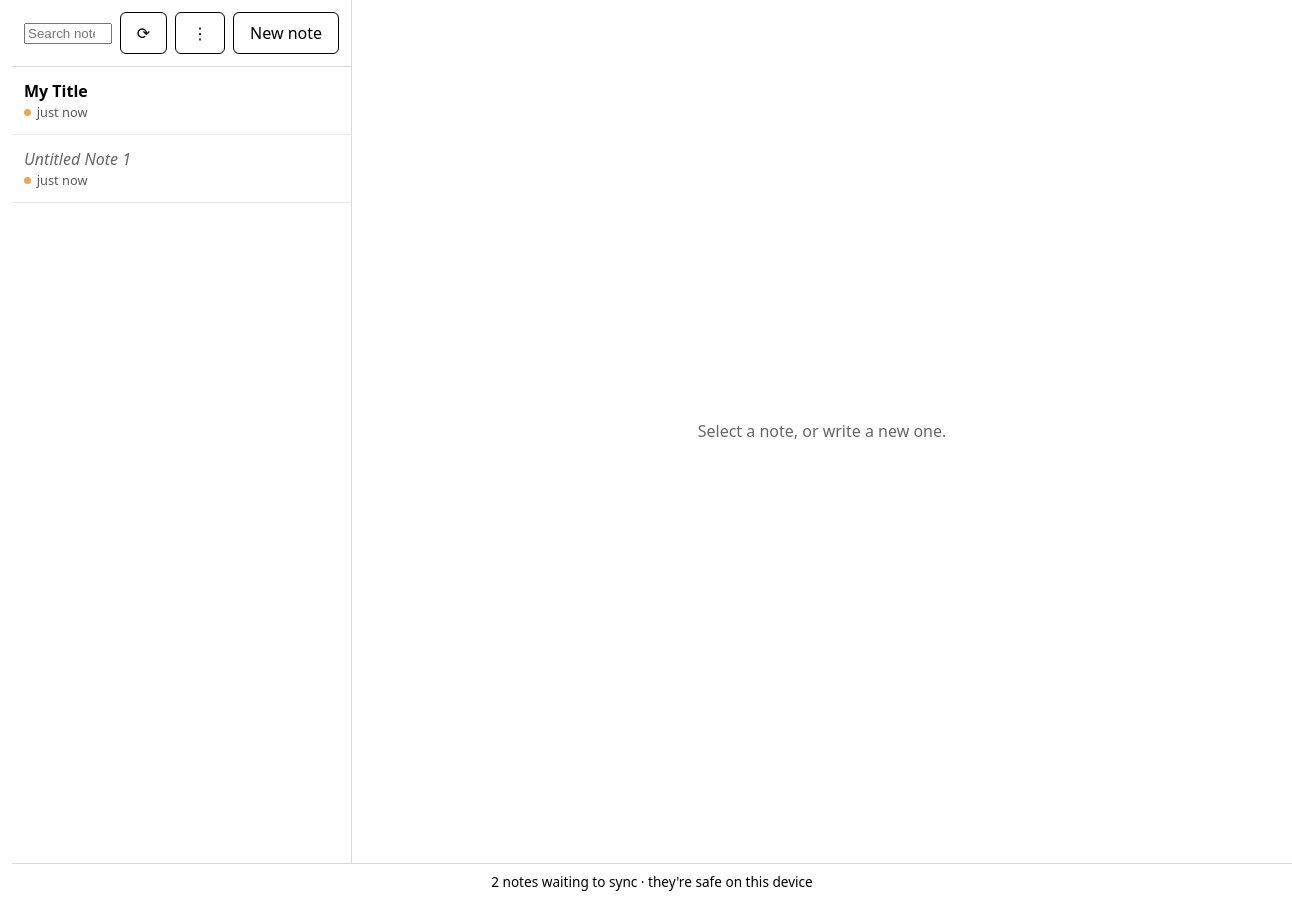
AppShell › typing a title THEN the body keeps the typed title — the body keystroke must not un-latch it
Click the button "New note" at (286, 33), box [233, 12, 339, 54]
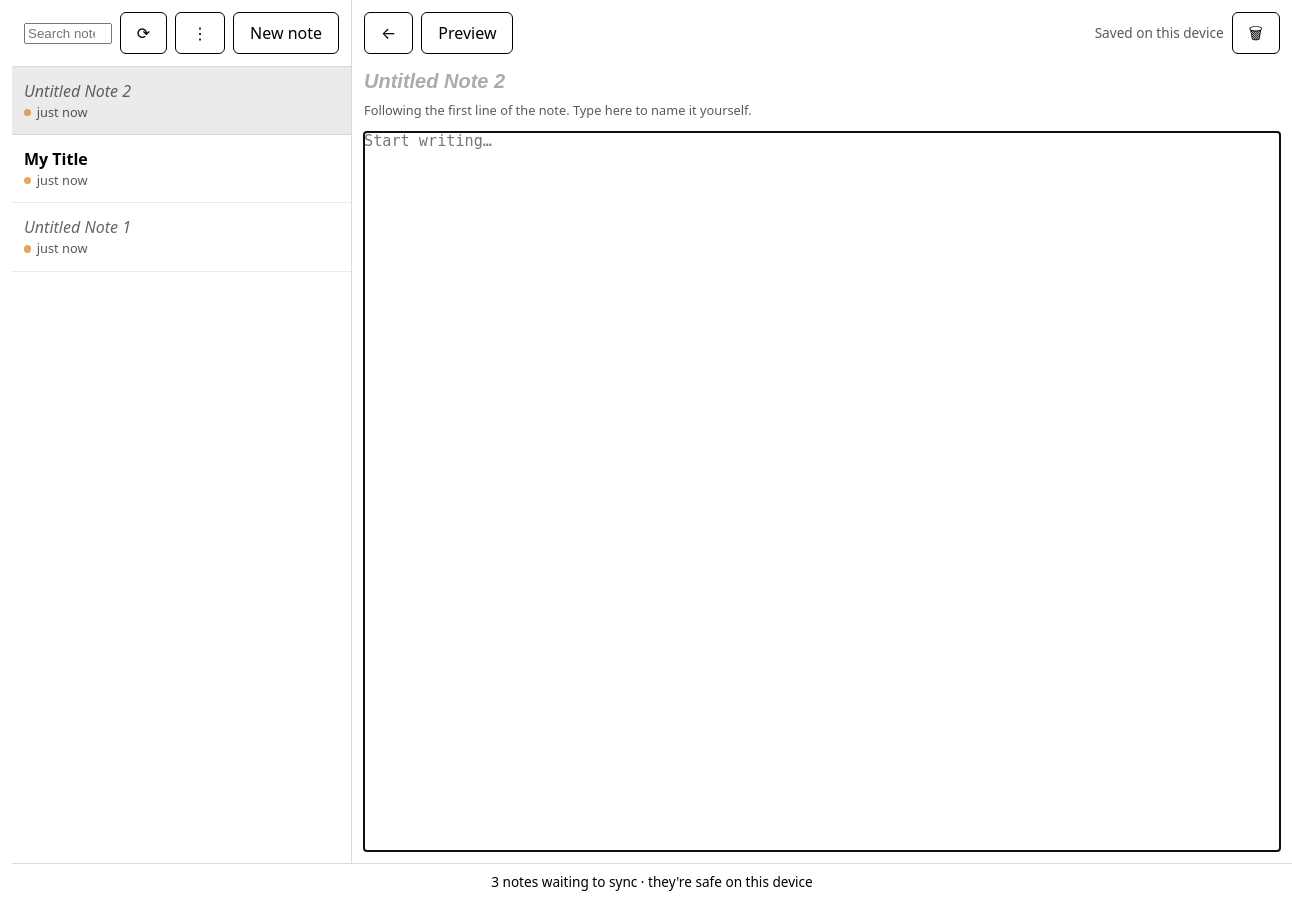
Now the text box named "Note body" is shown, box [364, 132, 1280, 851]
Type "Kept Title" into the field labelled "title" at (822, 82), box [364, 66, 1280, 97]
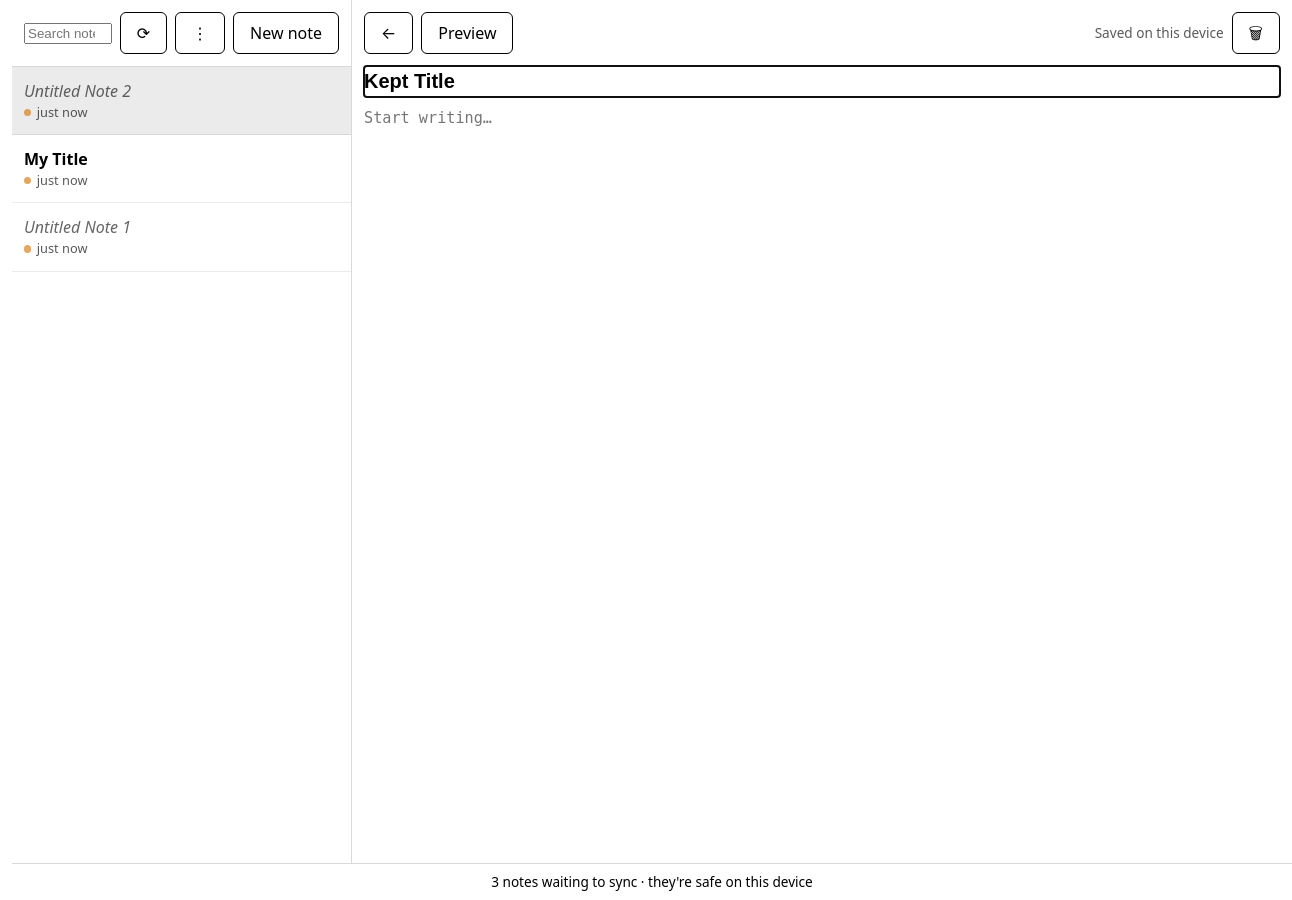
Type "Later body text" into the text box named "Note body" at (822, 480), box [364, 109, 1280, 851]
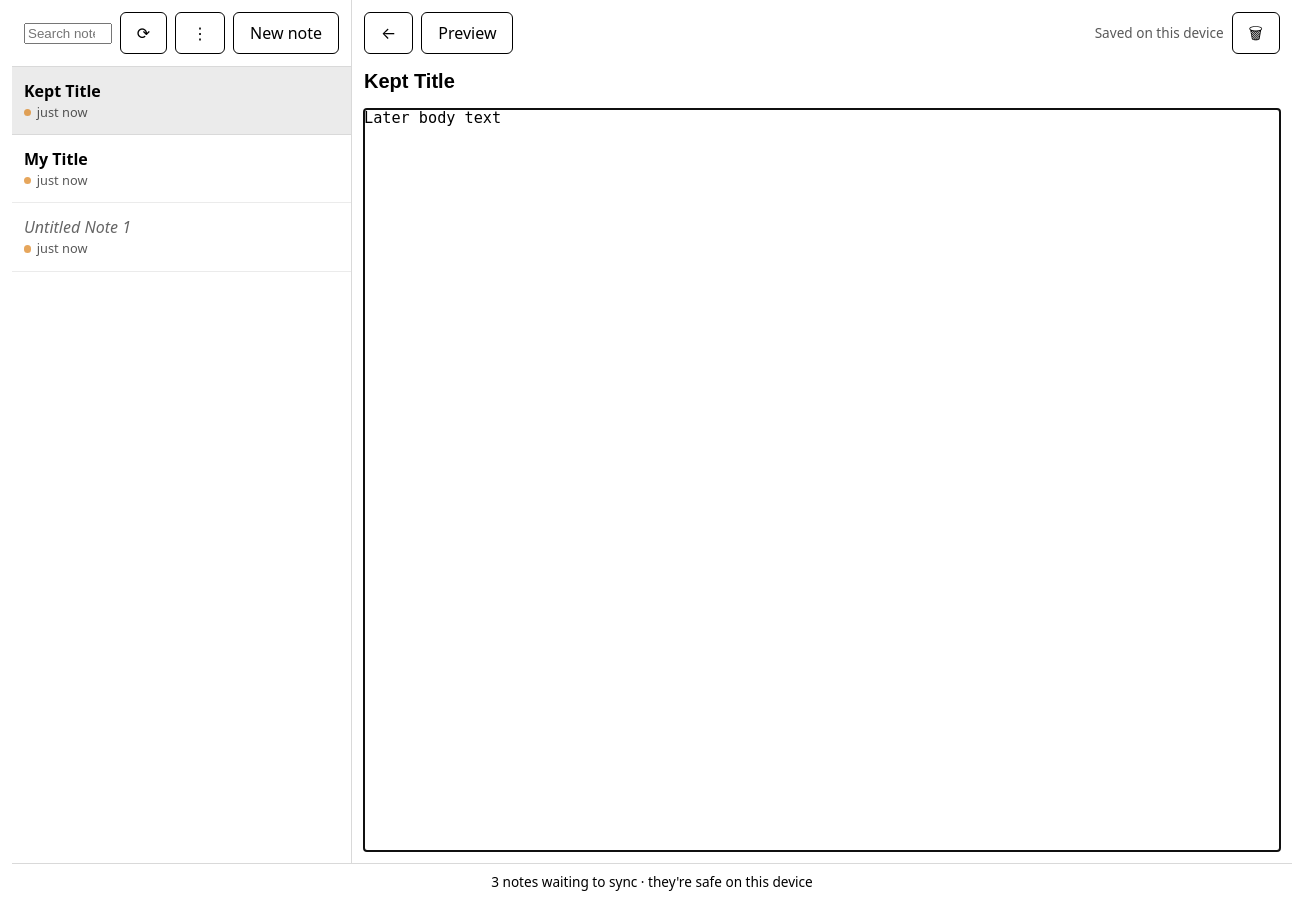
Now the button "Kept Title just now" is shown, box [12, 67, 351, 135]
